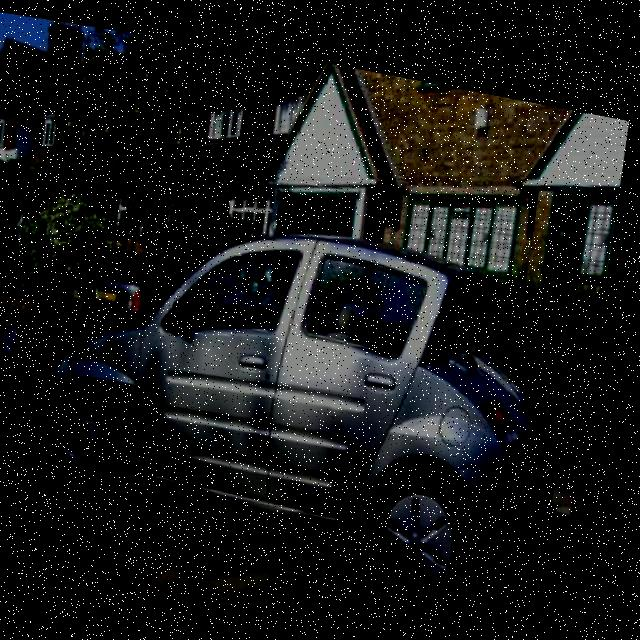license_plate: (0, 357, 13, 390), (106, 284, 126, 297)
